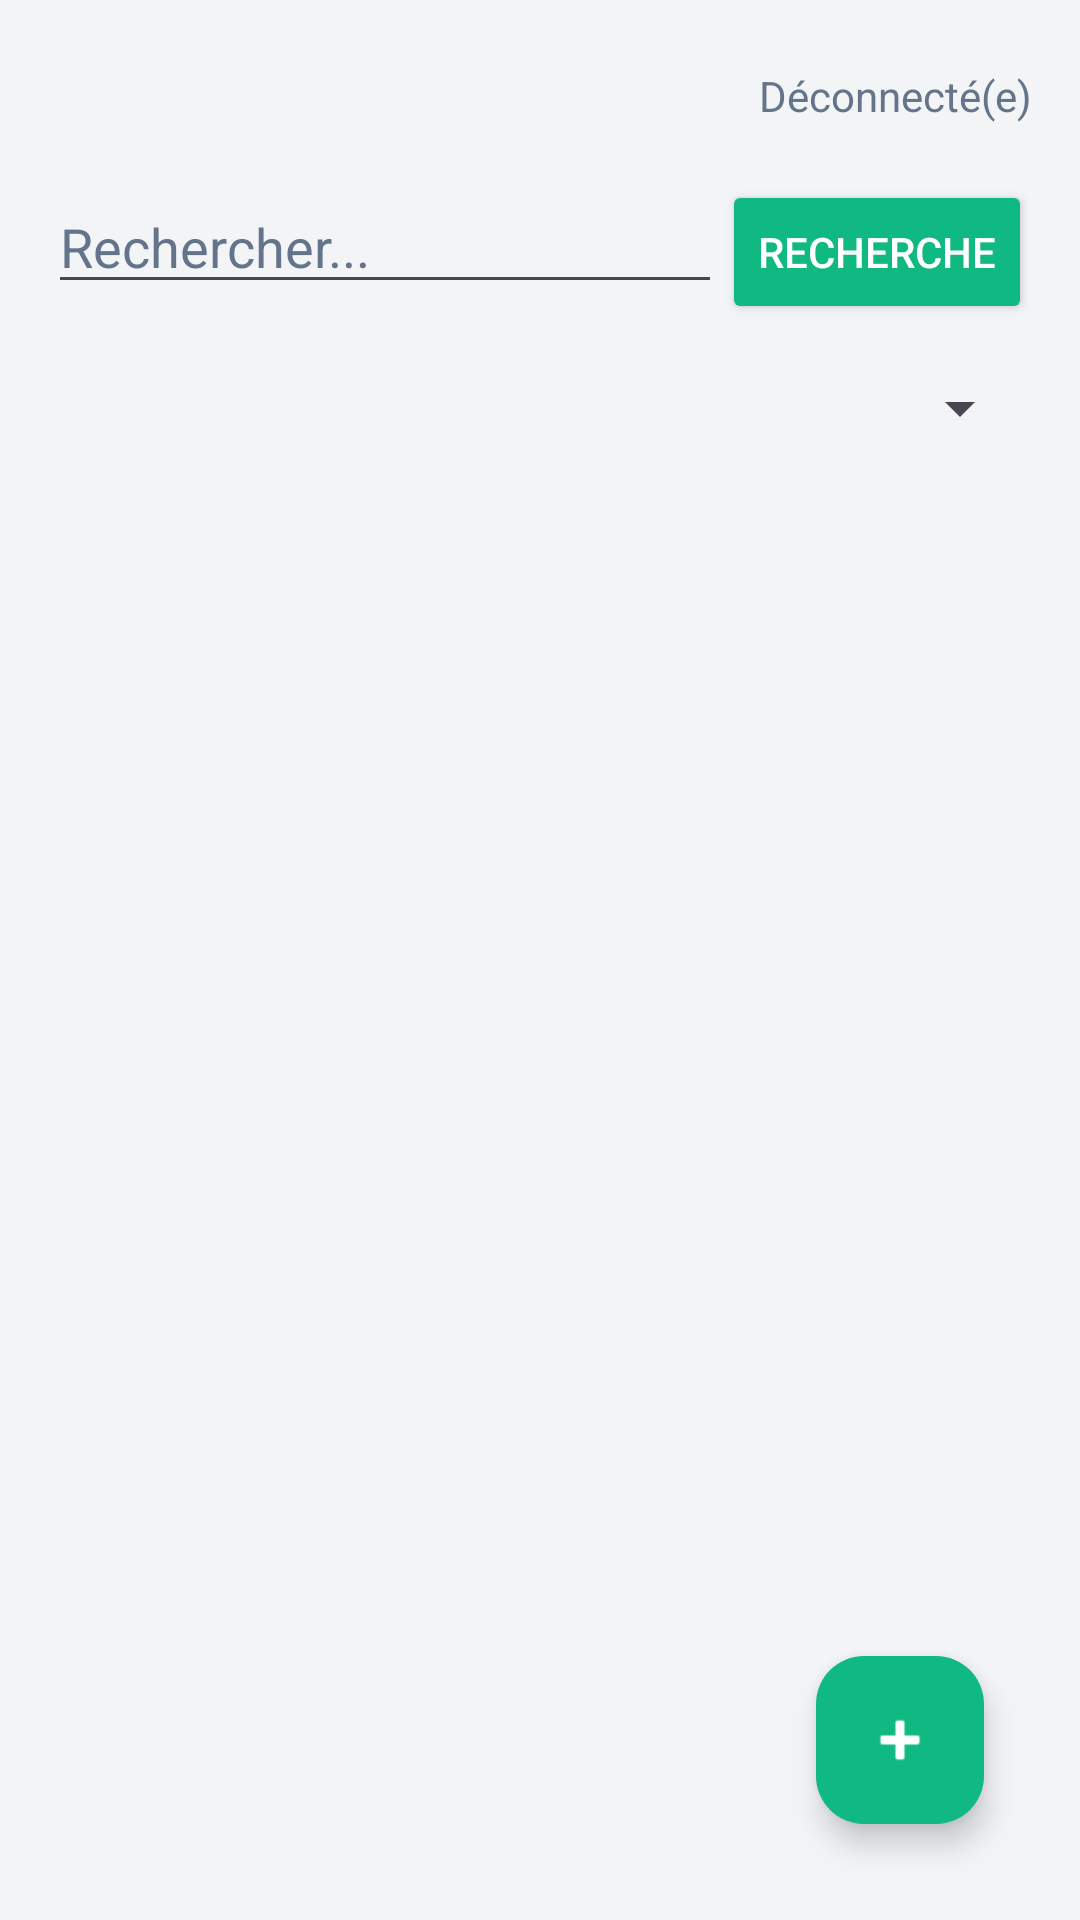

Icons on this 1080px×1920px Android screen, each with the point to tap as (x,y):
Publier une annonce: (900,1740)
